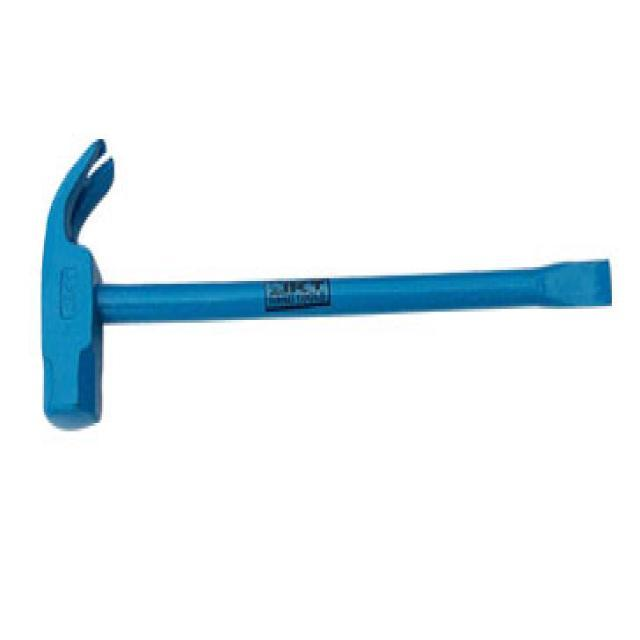hammer: (34, 127, 622, 438)
